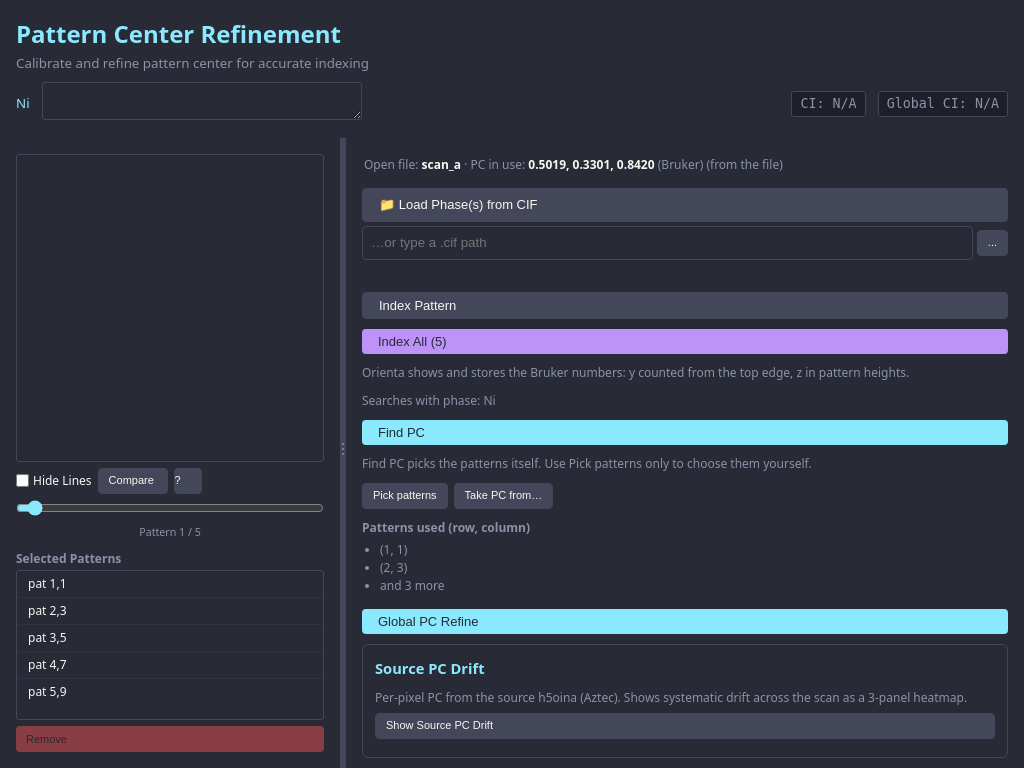
Save as calibration (screen 5) › says in words that the name is taken, whatever the case and the spaces, and does not ask the backend
Click the button "Find PC". click: {"x": 401, "y": 432}
box: left=362, top=420, right=1008, bottom=445
(page scrolled)
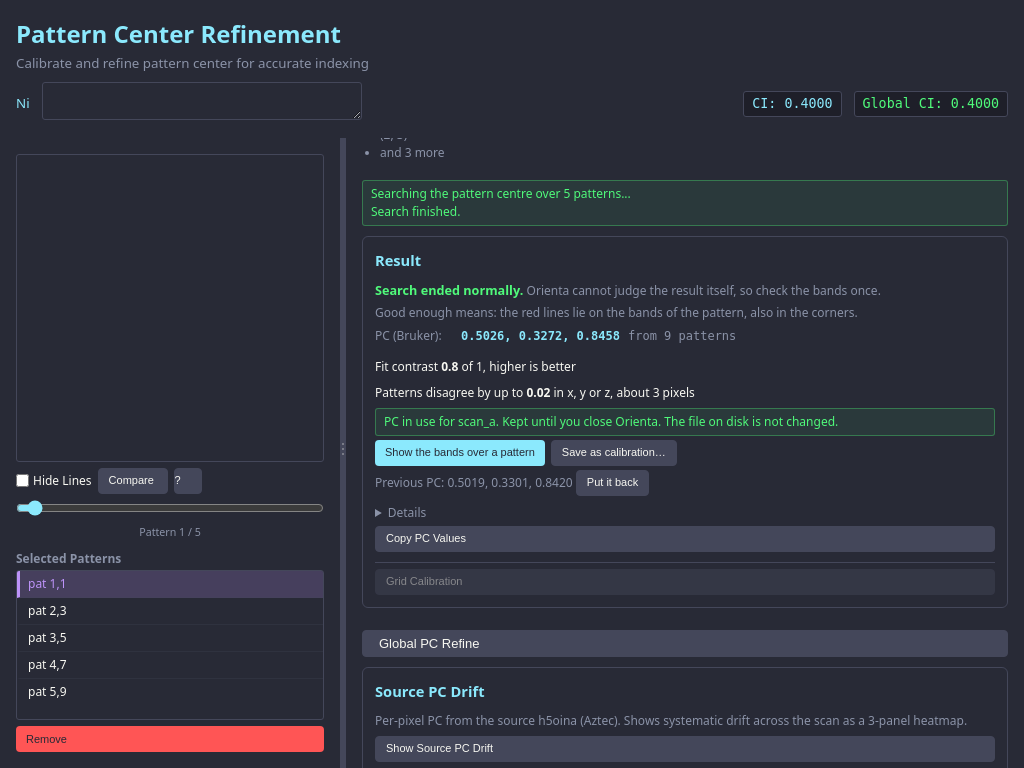
Click the button "Save as calibration…". click: {"x": 614, "y": 453}
box: left=551, top=440, right=677, bottom=466
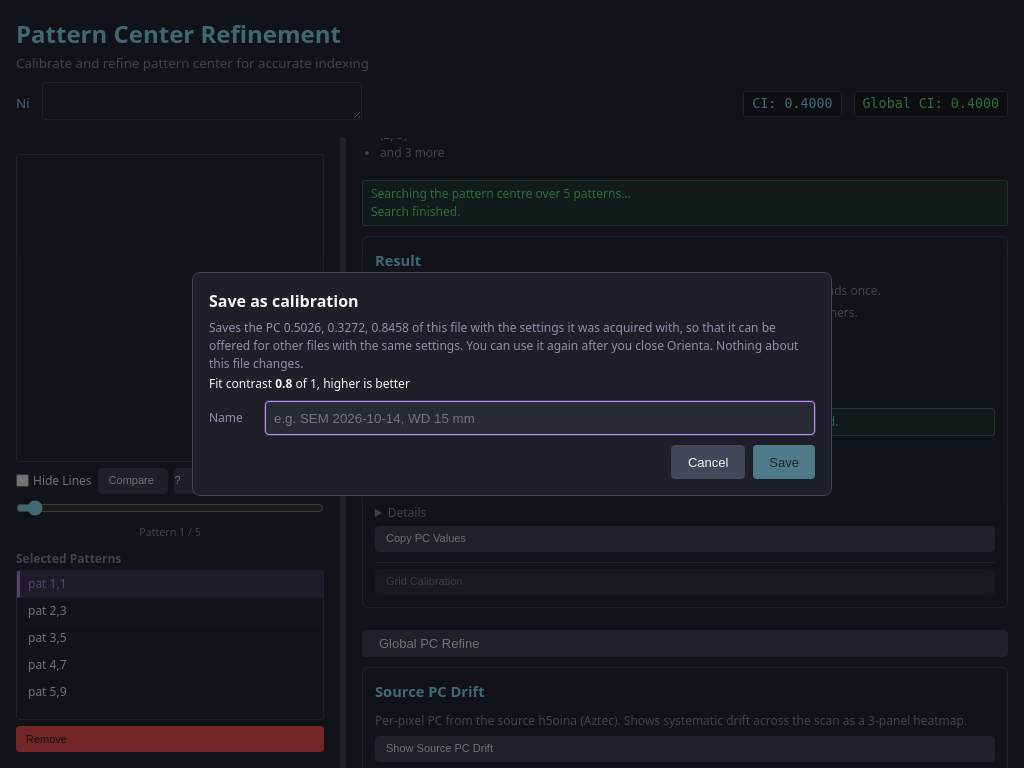
Type " sem   2026-10-14" into the field labelled "Name". click: {"x": 540, "y": 418}
box: left=265, top=401, right=815, bottom=435
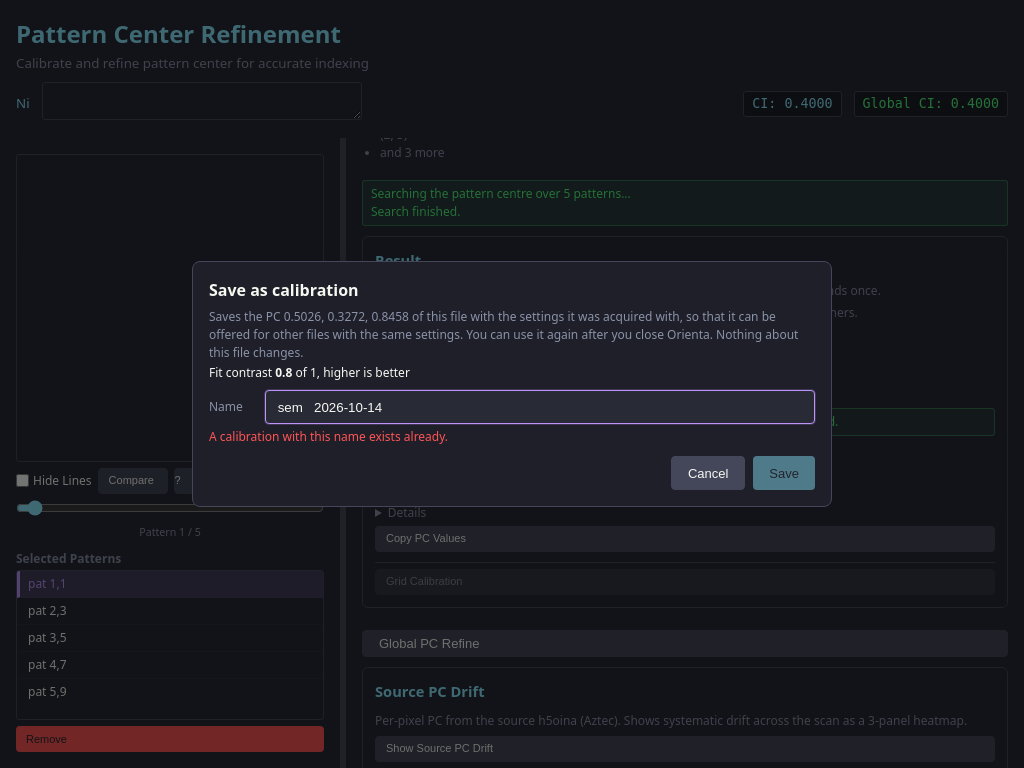
Expected: the button "Save" is disabled, left=753, top=456, right=815, bottom=490
Expected: the text "A calibration with this name exists already." is shown, left=209, top=428, right=448, bottom=445
Replace the text in the field labelled "Name" with "SEM 2026-10-15". click: {"x": 540, "y": 407}
box: left=265, top=390, right=815, bottom=424
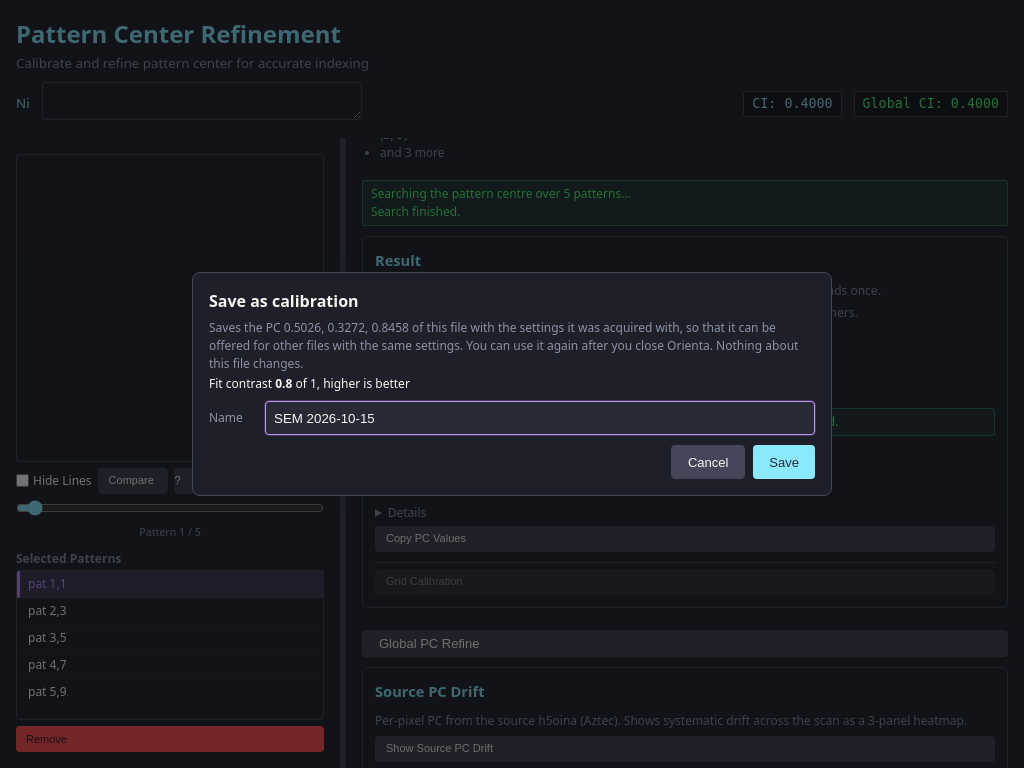
Expected: the text "A calibration with this name exists already." is gone
Expected: the button "Save" is enabled, left=753, top=445, right=815, bottom=479
